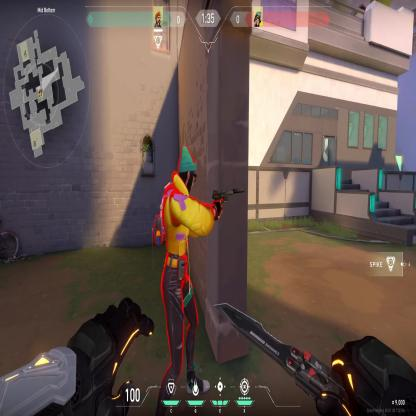enemy: (149, 142, 221, 374)
